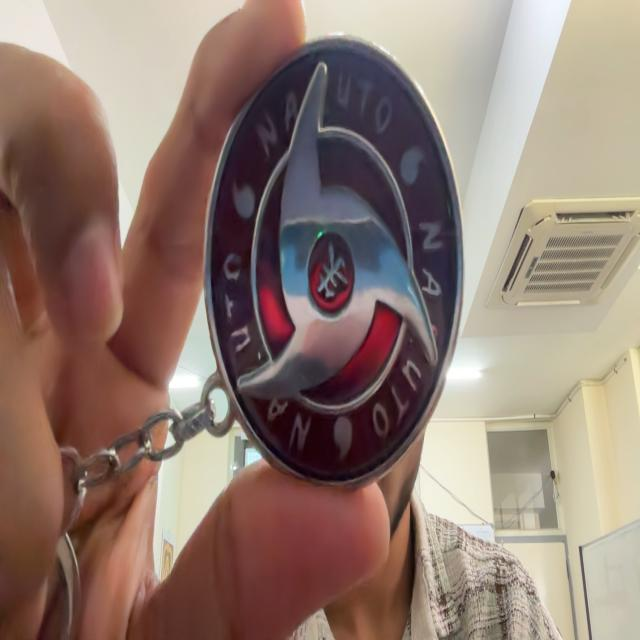dangerous: (61, 36, 463, 521)
